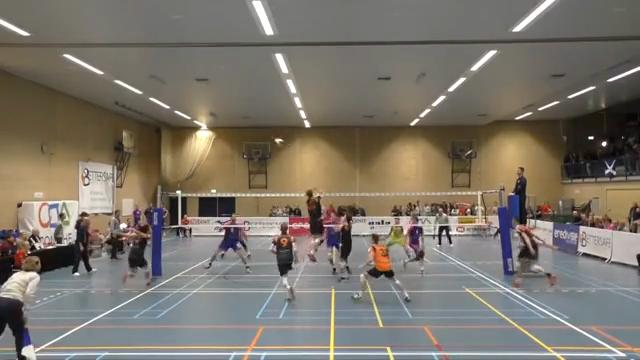Player: (352, 234, 410, 301), (513, 225, 556, 287), (205, 214, 250, 272), (271, 223, 297, 300), (123, 224, 150, 285), (402, 215, 424, 274), (306, 189, 323, 261), (323, 212, 340, 274), (385, 217, 410, 258), (340, 213, 351, 279), (239, 230, 250, 258)
Set: (329, 207, 354, 286)
ball: (273, 136, 285, 149)
